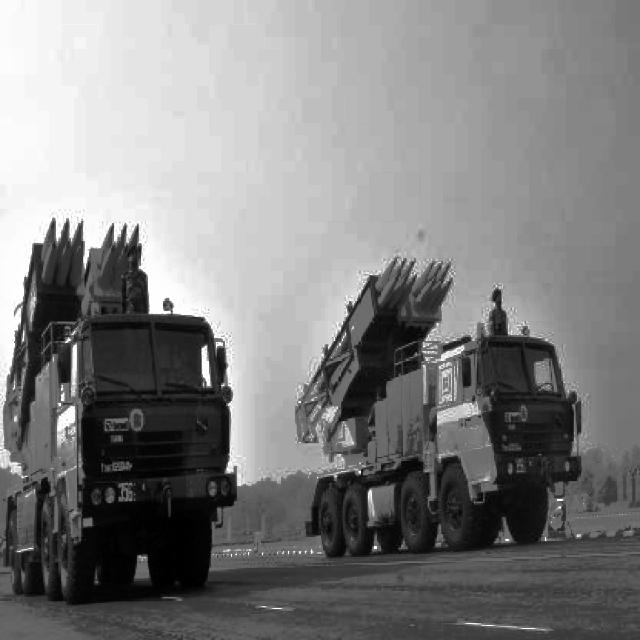HCV: (5, 249, 276, 640), (291, 330, 563, 542)
